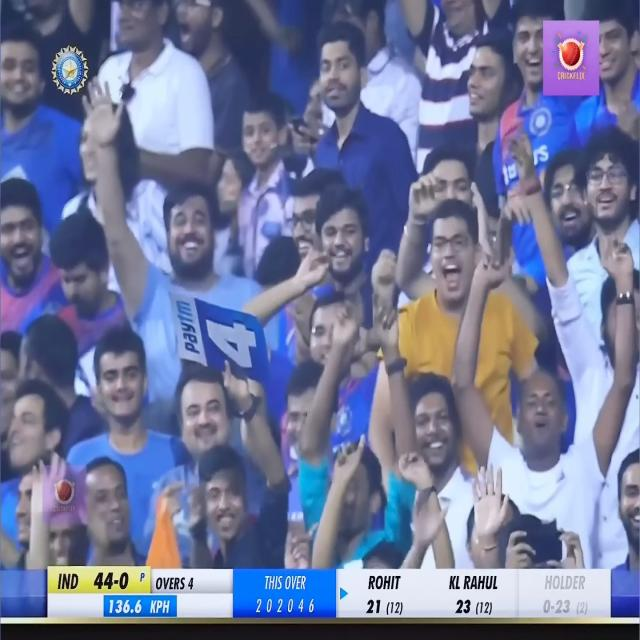fully_visible: (168, 287, 203, 378)
